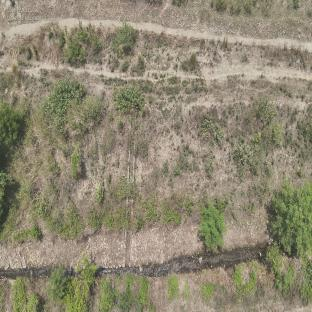rock_toe: (132, 218, 260, 267), (0, 231, 122, 269)
slope_drain: (122, 103, 138, 266)
toe_drain: (0, 235, 309, 281), (269, 188, 311, 254)
vegetation: (264, 187, 312, 300), (39, 78, 105, 154), (199, 208, 227, 251), (114, 82, 149, 115)
